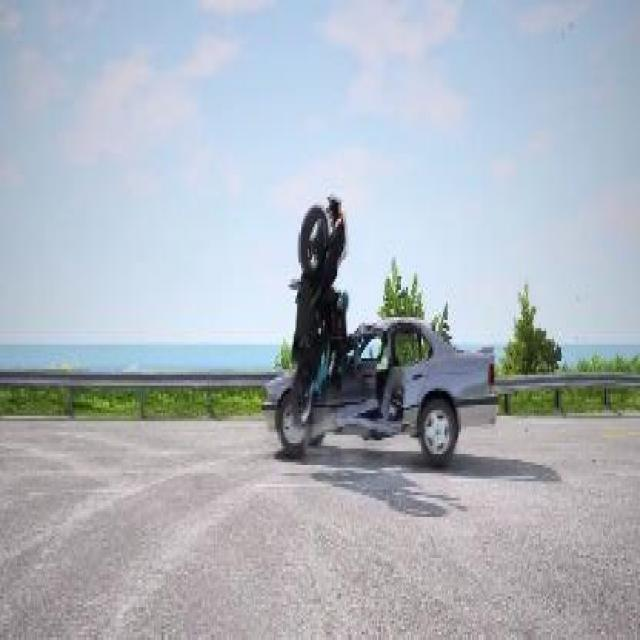accident: (257, 192, 500, 473)
